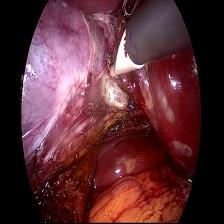Grasper: (118, 0, 140, 20)
Hook: (105, 28, 134, 84)
